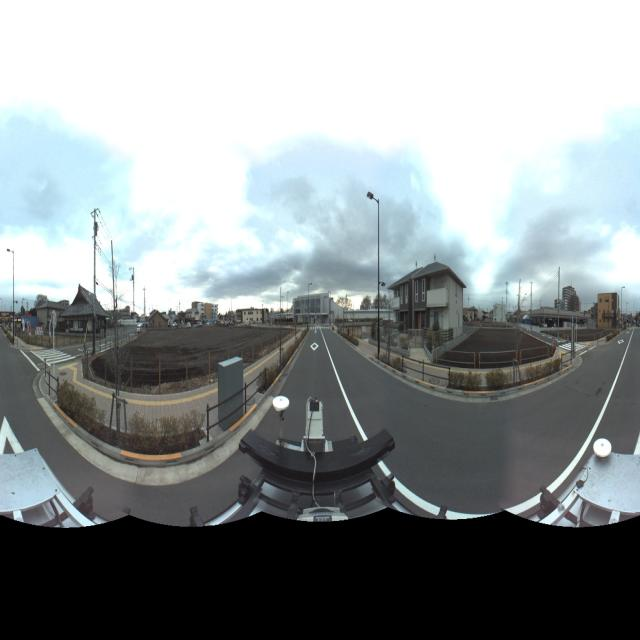b_1: (414, 250, 474, 340), (64, 287, 105, 346), (593, 284, 626, 344), (288, 288, 334, 328), (552, 275, 584, 330), (390, 263, 412, 325), (187, 294, 224, 328)
